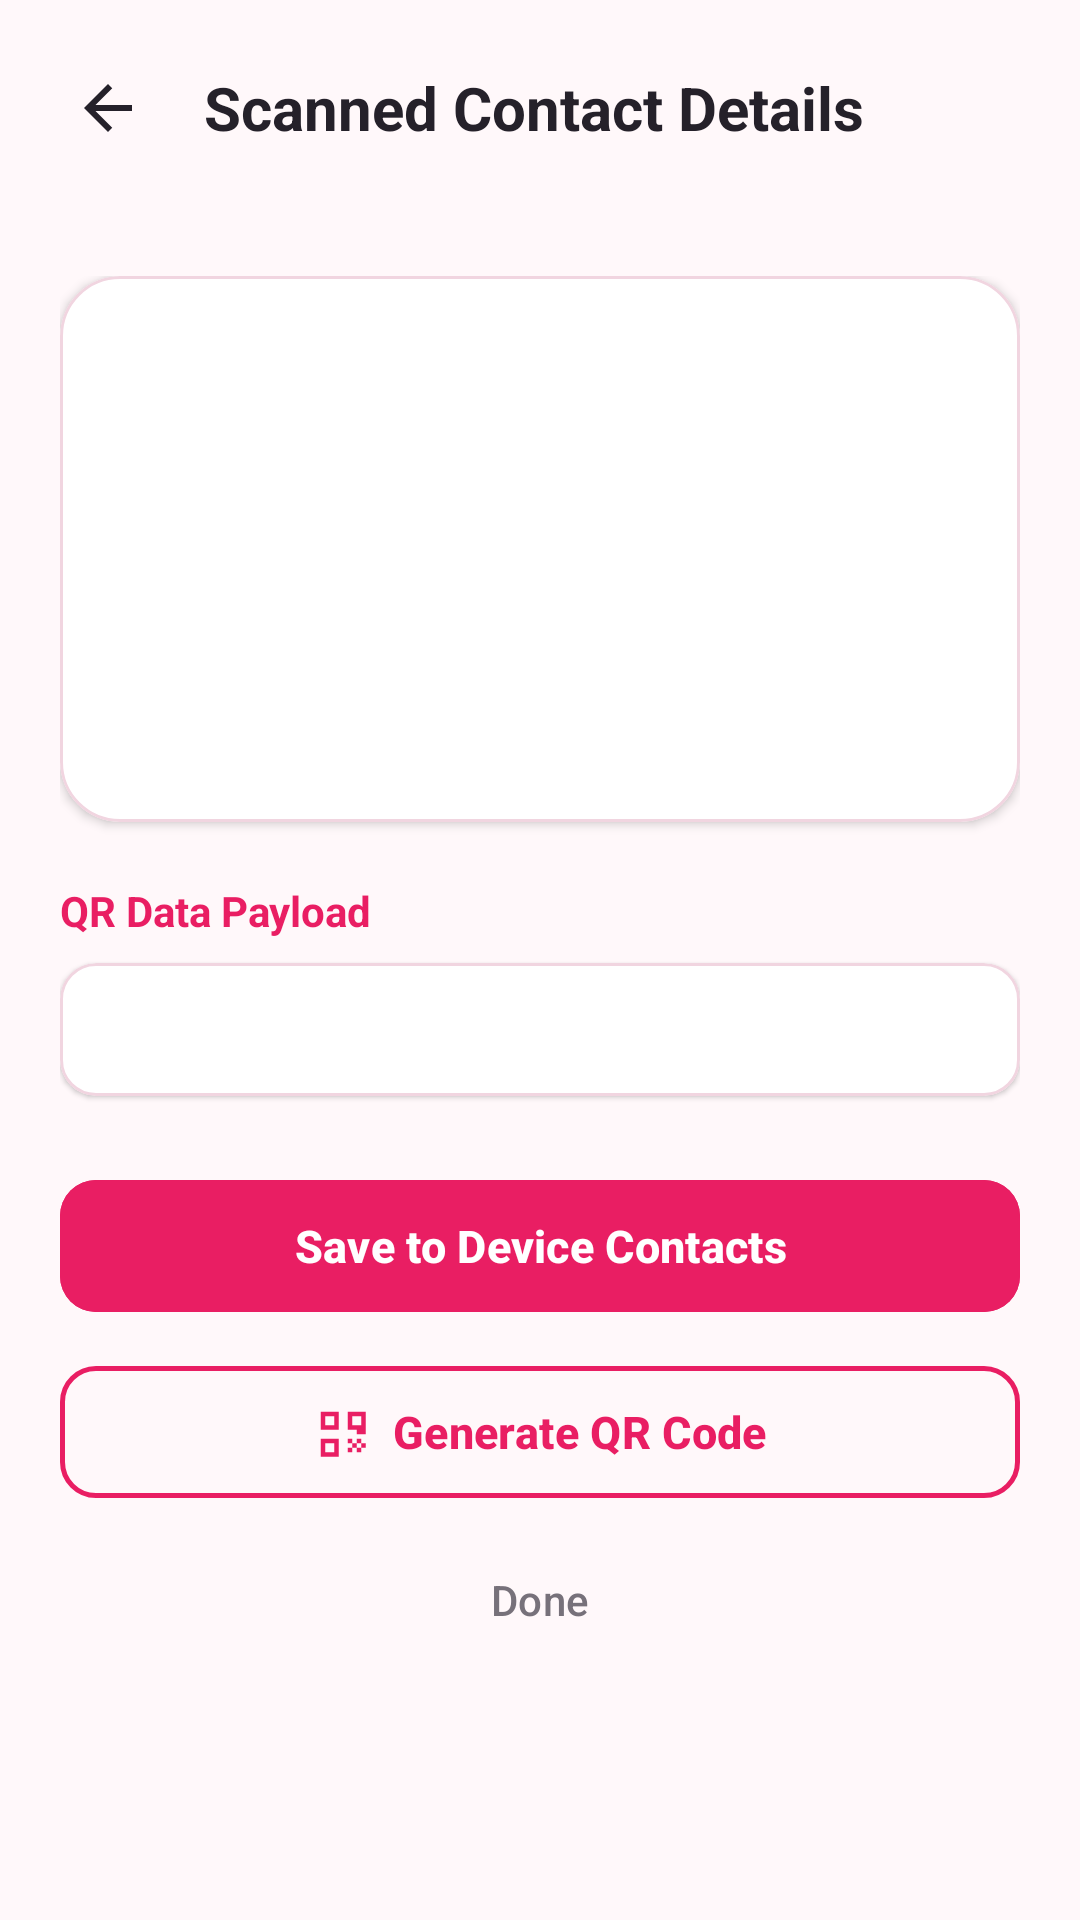

Point at icon controls on the screen. Image size 1080 × 1920, points as (x=x, y=y).
Back to Contacts: (x=108, y=108)
